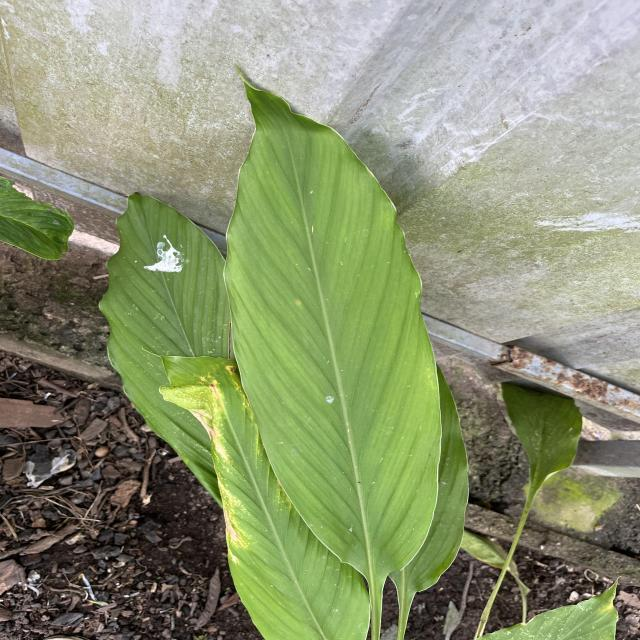Curcuma longa: (219, 59, 444, 586), (95, 189, 226, 511)
